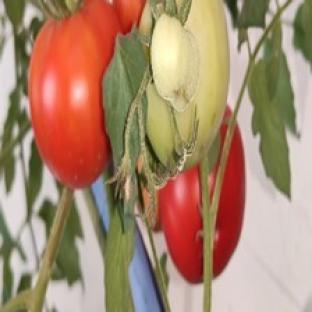Tomato: (214, 126, 245, 277)
